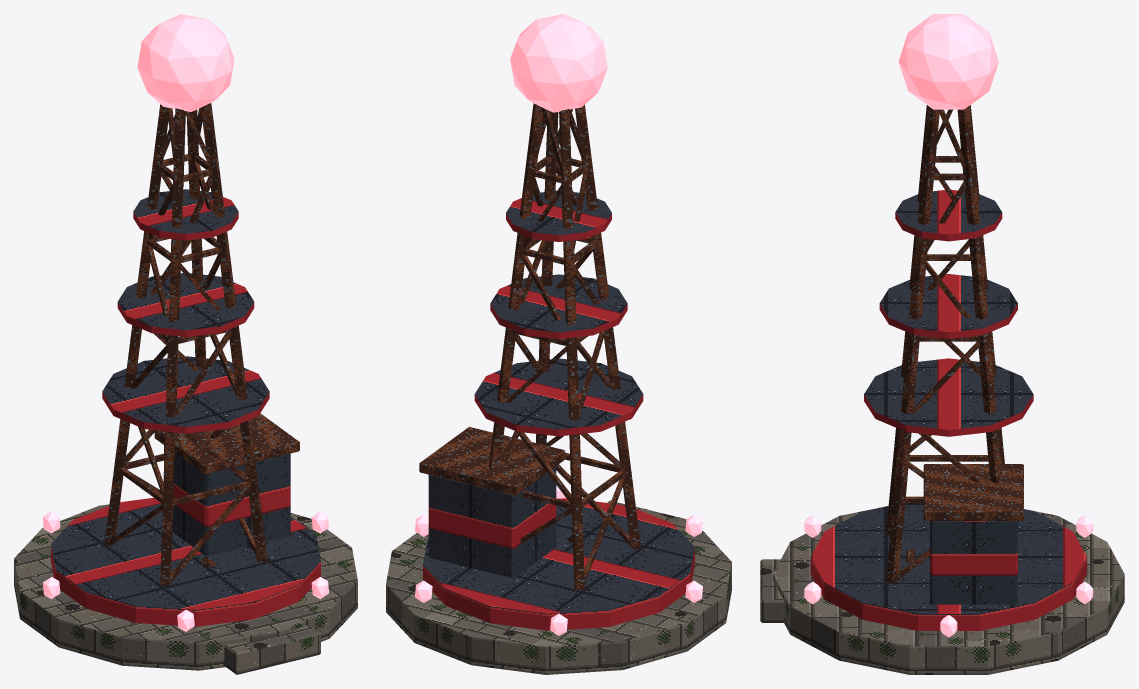
The model's file is rage_altar.glb.
3 views of the same model, side by side, from view 1: azimuth 30°, elevation 25°; view 2: azimuth 150°, elevation 25°; view 3: azimuth 270°, elevation 25° (orthographic).
Visible parts, largest first — view 1: Altar, Orb, Glow; view 2: Altar, Orb, Glow; view 3: Altar, Orb, Glow.
Boxes of the visible parts, left/top/right/bottom form: Altar: left=14, top=103, right=357, bottom=674; Orb: left=137, top=14, right=234, bottom=111; Glow: left=43, top=511, right=329, bottom=631; Altar: left=386, top=103, right=731, bottom=674; Orb: left=510, top=14, right=607, bottom=112; Glow: left=415, top=485, right=702, bottom=635; Altar: left=760, top=105, right=1124, bottom=674; Orb: left=898, top=14, right=998, bottom=109; Glow: left=804, top=515, right=1093, bottom=637.
Size of the model in its own units: 5.46 by 10.3 by 5.8.
Materials: 5 (3 with a texture image).
